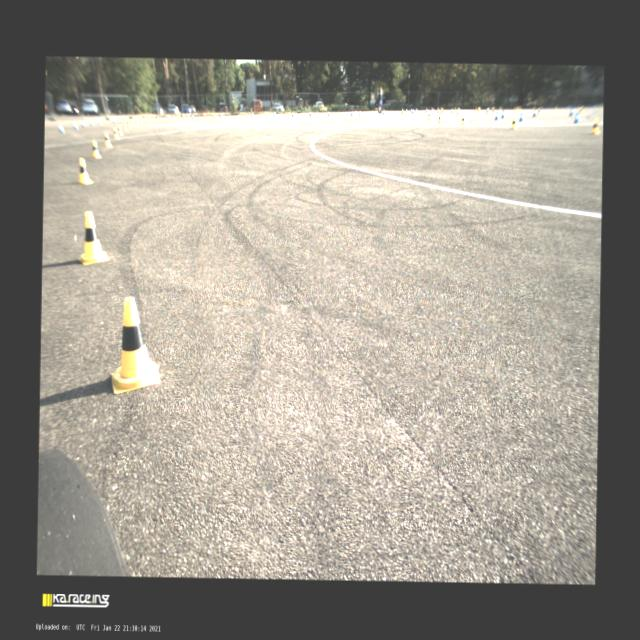blue_cone: (572, 112, 578, 124), (494, 110, 499, 120), (518, 112, 523, 121), (500, 110, 505, 118), (567, 108, 572, 116), (532, 108, 536, 116), (60, 125, 64, 133), (74, 122, 78, 130), (349, 110, 354, 116), (82, 121, 85, 128), (272, 111, 276, 116), (326, 110, 329, 116), (411, 108, 414, 114), (450, 108, 453, 114), (90, 120, 93, 126), (290, 112, 294, 116), (424, 108, 428, 112), (112, 118, 116, 122), (191, 114, 194, 119), (382, 109, 385, 114), (436, 108, 439, 113), (220, 112, 222, 118), (409, 108, 412, 112), (414, 106, 416, 112), (251, 112, 253, 117), (98, 119, 100, 124), (168, 116, 170, 120), (405, 108, 407, 112)
yellow_cone: (110, 296, 161, 394), (78, 210, 110, 264), (78, 158, 92, 185), (92, 140, 100, 158), (104, 132, 112, 146), (590, 120, 598, 134), (510, 116, 518, 129), (112, 127, 119, 139), (460, 114, 466, 125), (437, 114, 441, 122), (124, 124, 128, 132), (536, 107, 540, 115), (578, 106, 582, 114), (119, 126, 122, 136), (156, 115, 160, 122), (358, 110, 362, 117), (128, 122, 132, 128), (476, 106, 479, 114), (491, 106, 494, 114), (426, 113, 429, 120), (287, 111, 290, 118), (401, 109, 404, 116), (455, 110, 458, 117), (485, 108, 488, 115), (140, 118, 143, 124), (212, 114, 215, 120), (245, 112, 248, 118), (309, 112, 312, 118), (132, 119, 134, 126), (136, 118, 138, 125), (266, 112, 268, 119), (182, 114, 184, 120), (441, 108, 443, 114), (430, 107, 432, 112)
